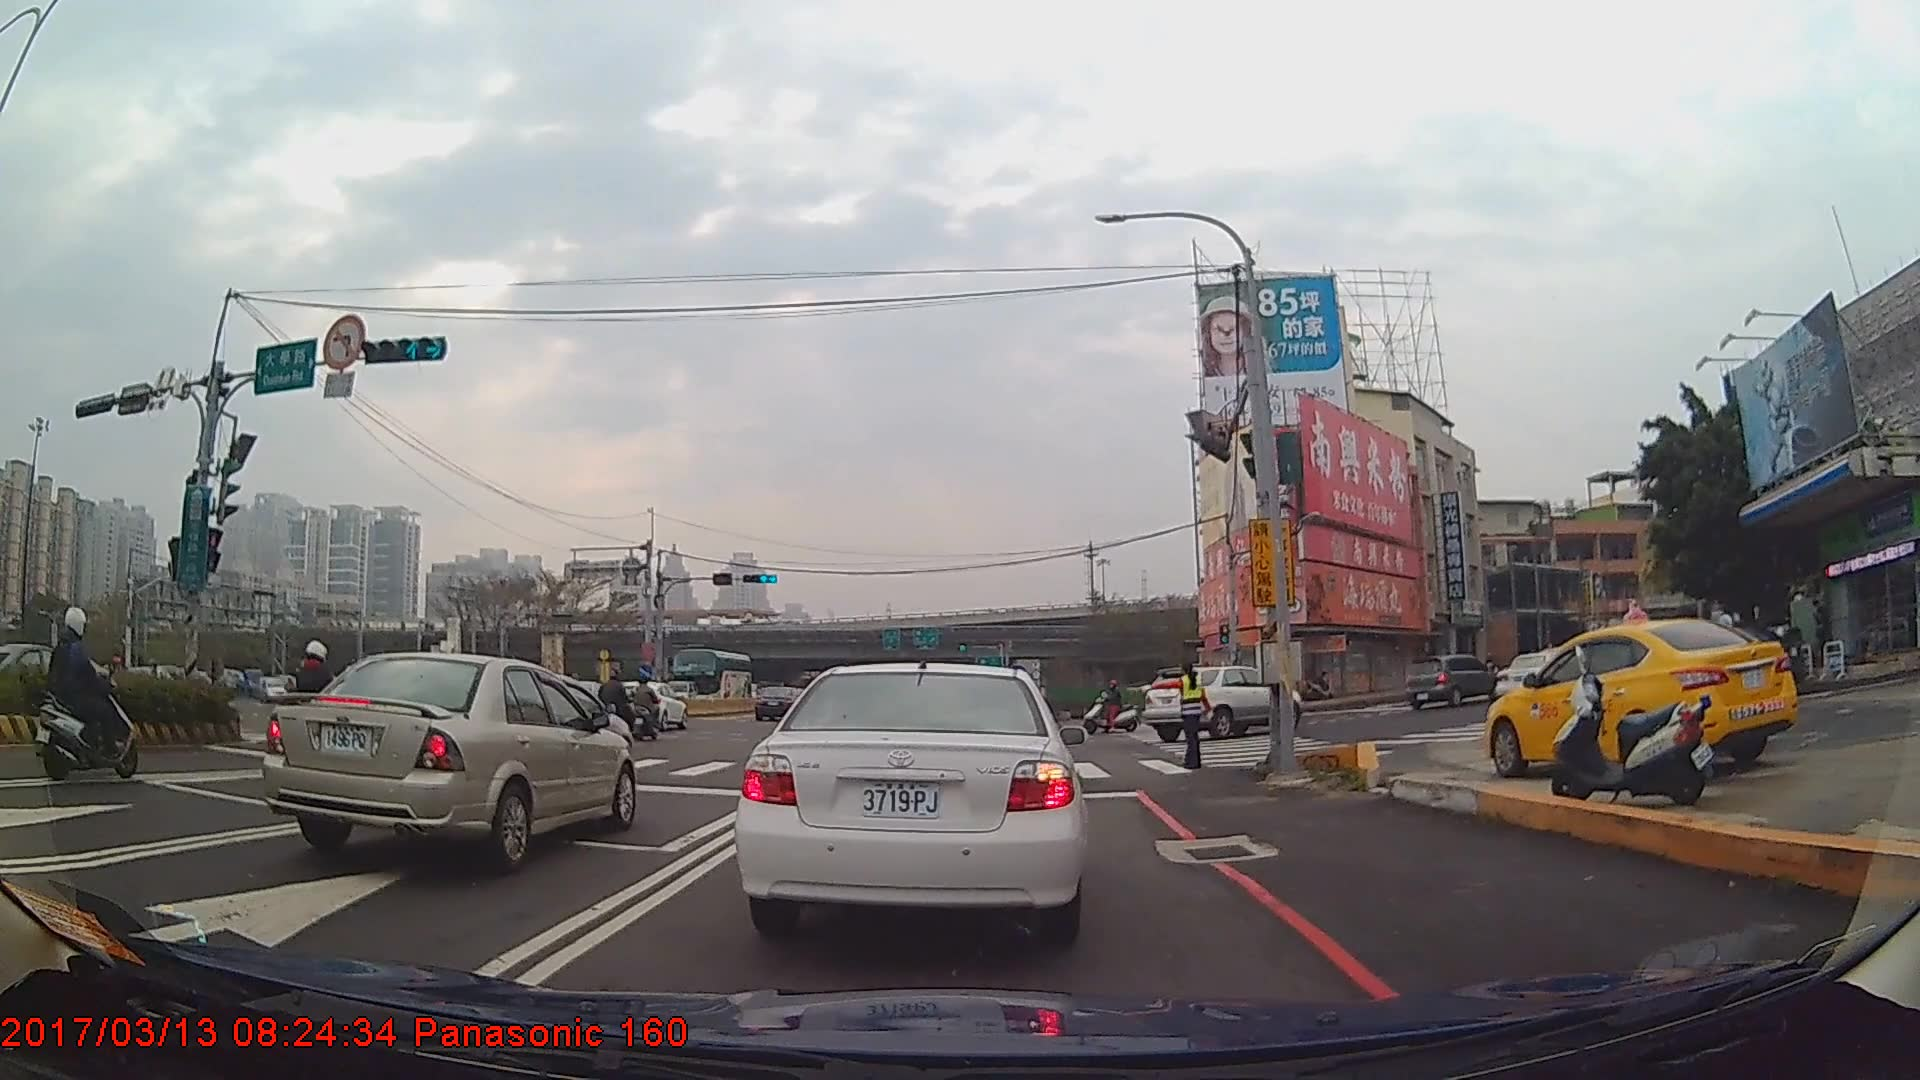pedestrian: (1128, 660, 1209, 773), (291, 647, 330, 743)
rider: (30, 604, 134, 777), (270, 636, 355, 780), (1083, 680, 1139, 734), (594, 670, 635, 741), (631, 676, 658, 741)
vehicle: (730, 654, 1088, 937), (259, 649, 635, 871), (1482, 614, 1794, 782), (1143, 664, 1302, 739), (1399, 653, 1497, 712), (1492, 648, 1578, 711), (670, 647, 752, 703), (609, 678, 686, 733), (750, 684, 804, 720)
